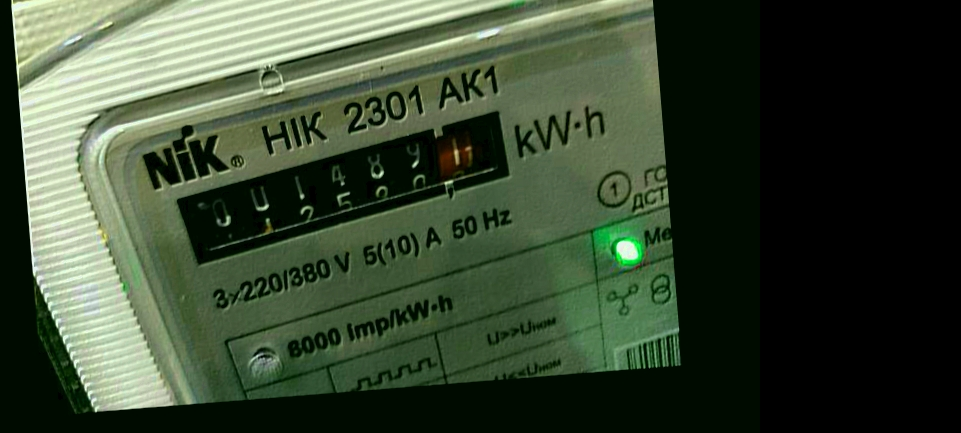0: (244, 177, 273, 215), (207, 194, 234, 231)
1: (444, 130, 466, 169), (288, 170, 310, 203)
4: (325, 157, 349, 190)
8: (364, 146, 388, 183)
9: (403, 137, 425, 170)
screen: (159, 98, 545, 278)
